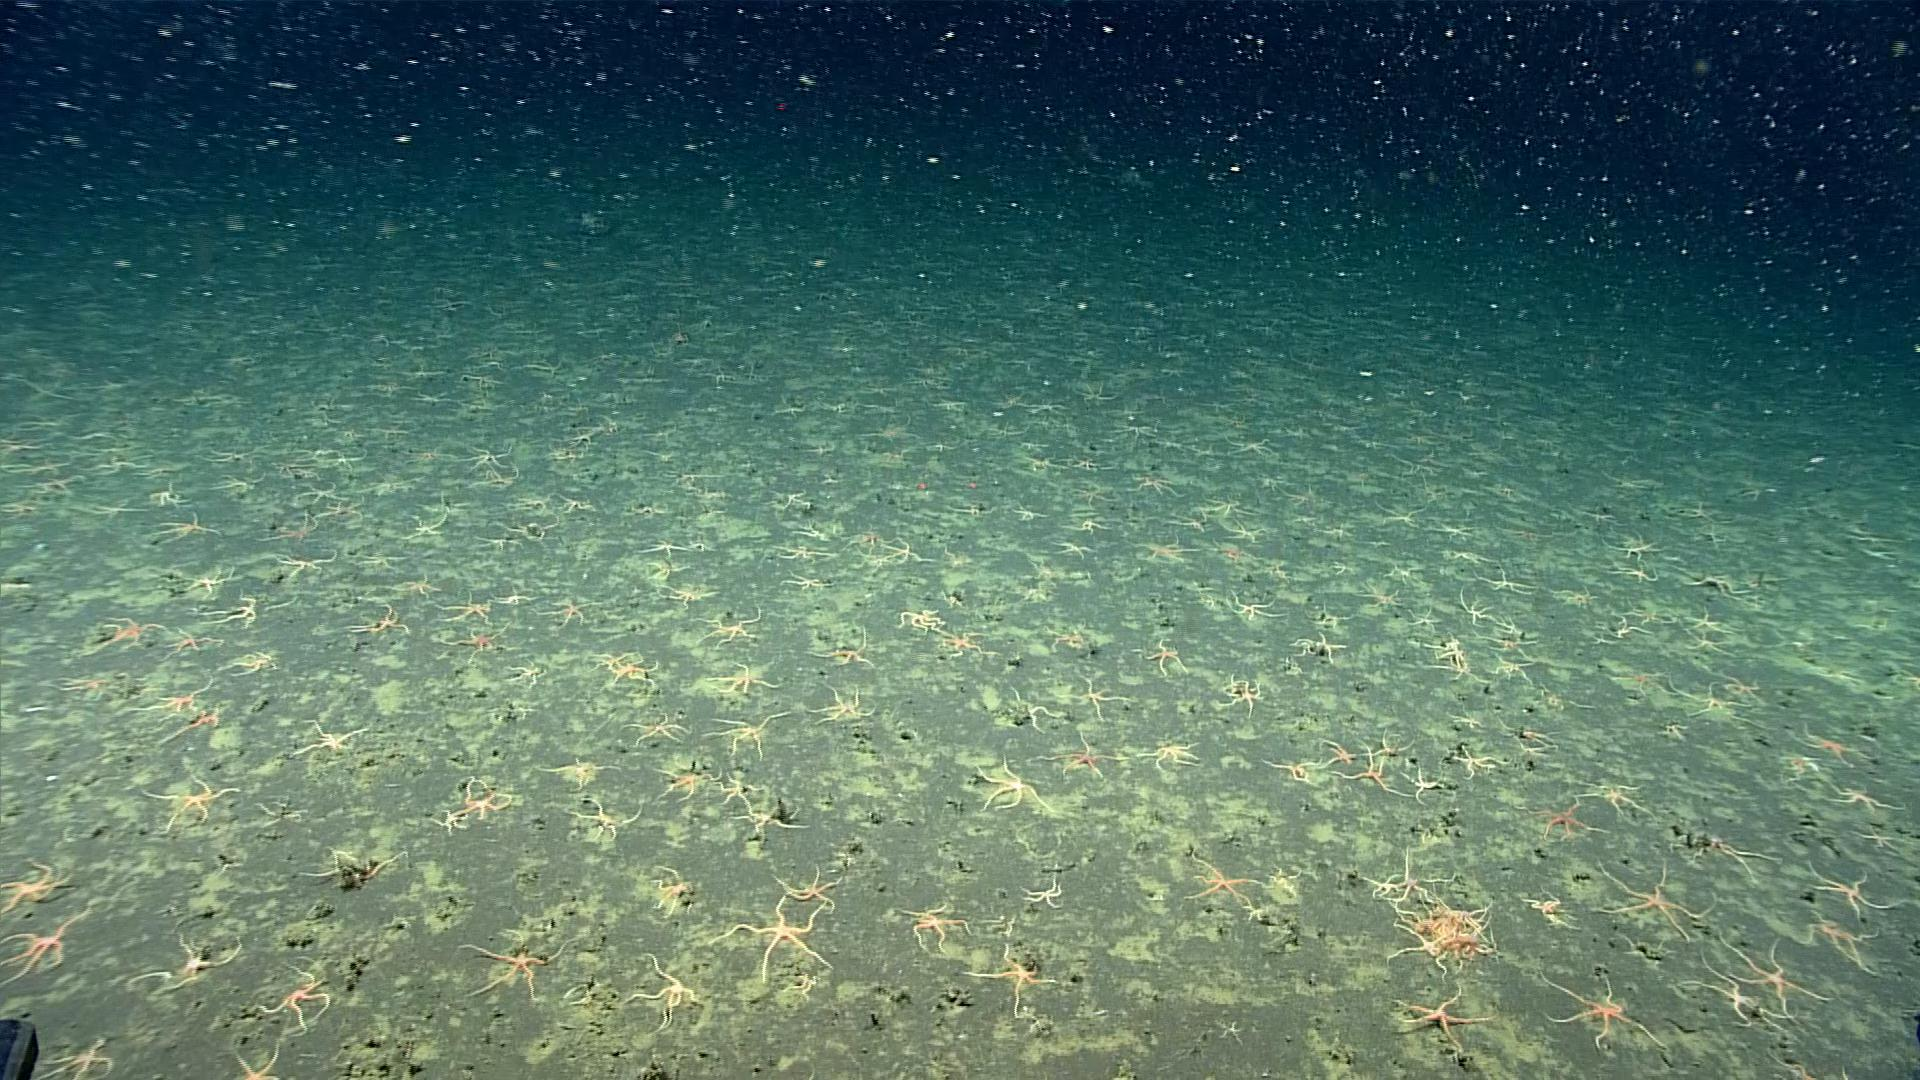brittle_sea_star: (1716, 931, 1838, 1029), (703, 902, 844, 985), (1542, 972, 1669, 1052), (1594, 862, 1721, 942), (1681, 952, 1797, 1034), (446, 934, 564, 1009), (1391, 984, 1494, 1058), (3, 903, 91, 988), (963, 944, 1059, 1021), (129, 934, 244, 997), (617, 957, 696, 1039), (243, 967, 330, 1040), (136, 773, 241, 831), (1808, 918, 1890, 982), (1040, 729, 1127, 789), (1807, 861, 1890, 923), (302, 845, 409, 893), (972, 756, 1055, 815), (1687, 835, 1783, 884), (1665, 674, 1754, 727), (700, 713, 789, 765), (1180, 855, 1265, 907), (1520, 795, 1614, 841), (1, 852, 73, 913), (1329, 750, 1412, 802), (286, 715, 371, 765), (80, 611, 166, 659), (1389, 848, 1457, 906), (771, 866, 845, 916), (1383, 919, 1448, 976), (26, 1036, 115, 1077), (899, 903, 973, 952), (567, 800, 641, 847), (1059, 678, 1126, 728), (132, 674, 214, 713), (649, 757, 719, 803), (1799, 727, 1874, 769), (153, 707, 219, 754), (440, 625, 520, 665), (696, 605, 764, 650), (253, 509, 327, 549), (804, 683, 877, 723), (1586, 779, 1656, 819), (808, 630, 877, 670), (997, 687, 1052, 736), (537, 758, 616, 791), (152, 509, 222, 546), (712, 661, 779, 699), (638, 868, 686, 920), (733, 803, 800, 840), (264, 550, 339, 583), (1832, 787, 1907, 820), (618, 715, 690, 749), (1129, 737, 1199, 771), (597, 651, 662, 688), (1017, 865, 1067, 913), (228, 1038, 286, 1079), (1523, 886, 1569, 936), (533, 597, 603, 629), (1358, 728, 1420, 764), (1218, 675, 1269, 719), (931, 626, 996, 659), (458, 781, 510, 820), (487, 516, 562, 543), (198, 596, 258, 630), (1133, 638, 1187, 676), (1225, 591, 1283, 626), (345, 608, 410, 640), (1261, 750, 1323, 783), (1681, 570, 1751, 599), (435, 599, 496, 632), (164, 626, 222, 661), (1291, 629, 1346, 665), (181, 564, 243, 596), (1135, 538, 1200, 568), (1477, 566, 1534, 600), (1456, 592, 1507, 629), (218, 650, 280, 680), (1408, 765, 1453, 806), (1453, 744, 1501, 782), (1606, 533, 1663, 564), (719, 774, 762, 815), (54, 674, 115, 702), (895, 605, 944, 640), (765, 542, 835, 566), (389, 572, 448, 600), (880, 535, 928, 568), (1427, 655, 1482, 683), (636, 538, 696, 563), (1489, 654, 1539, 684), (405, 509, 450, 542), (1316, 738, 1362, 770), (1353, 583, 1406, 611), (1481, 632, 1538, 657), (458, 447, 513, 472), (1850, 827, 1905, 852), (663, 583, 717, 608), (1124, 473, 1176, 498), (1046, 626, 1089, 657), (313, 498, 364, 524), (1203, 493, 1257, 517), (1218, 520, 1269, 545), (293, 481, 340, 508), (774, 571, 829, 593), (1379, 508, 1424, 535), (1605, 566, 1659, 588), (1361, 870, 1402, 899), (1168, 509, 1215, 534), (1422, 632, 1466, 657), (1513, 724, 1555, 750), (1688, 634, 1731, 659), (551, 493, 596, 517), (1311, 603, 1349, 630), (1431, 521, 1474, 545), (1441, 550, 1490, 571), (1555, 588, 1596, 613), (427, 811, 467, 835), (1406, 608, 1443, 633), (1689, 612, 1725, 637), (1607, 621, 1648, 642), (1212, 1019, 1247, 1043), (1386, 559, 1422, 583), (1054, 539, 1093, 560), (1655, 721, 1692, 742), (1010, 505, 1048, 525), (1072, 516, 1109, 533), (1664, 611, 1689, 634), (1491, 617, 1526, 633), (1331, 558, 1357, 578)
